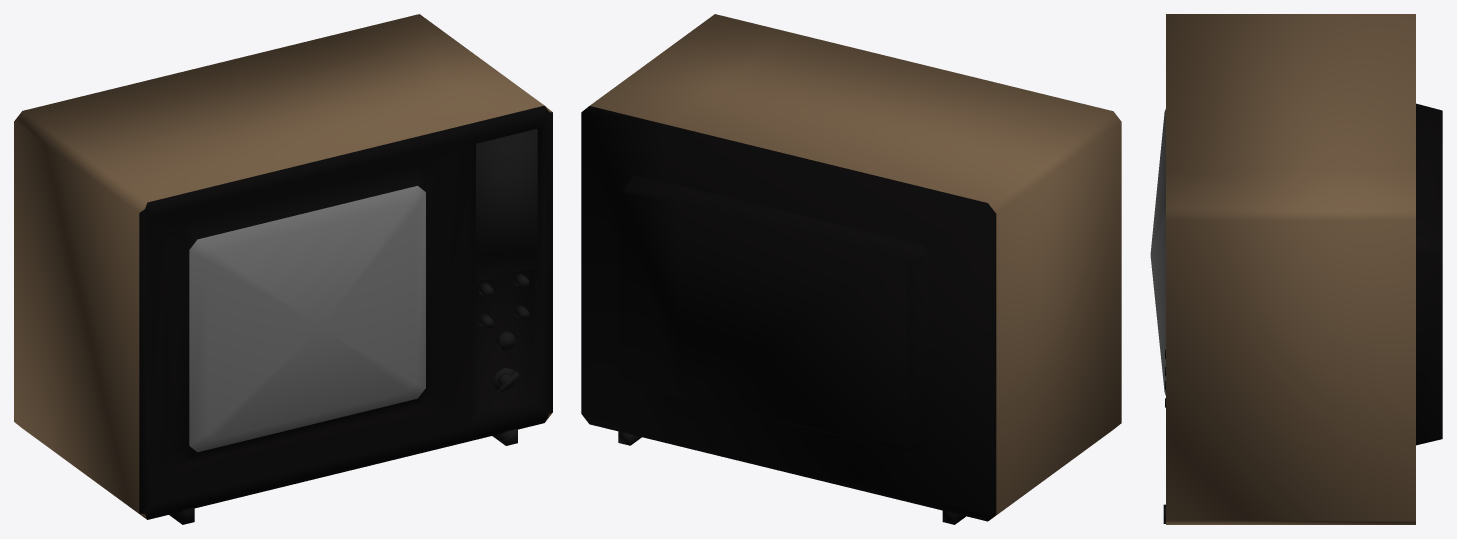
Rendered from TV_type2.FBX.
3 views of the same model, side by side, from view 1: azimuth 30°, elevation 25°; view 2: azimuth 150°, elevation 25°; view 3: azimuth 270°, elevation 25° (orthographic).
Visible parts, largest first — view 1: TV_type2_01; view 2: TV_type2_01; view 3: TV_type2_01.
Part boxes in pixels (left/top/right/bottom): TV_type2_01: left=14, top=14, right=552, bottom=524; TV_type2_01: left=581, top=14, right=1121, bottom=524; TV_type2_01: left=1150, top=14, right=1442, bottom=524.
Size of the model in its own units: 60 by 36.7 by 45.73.
